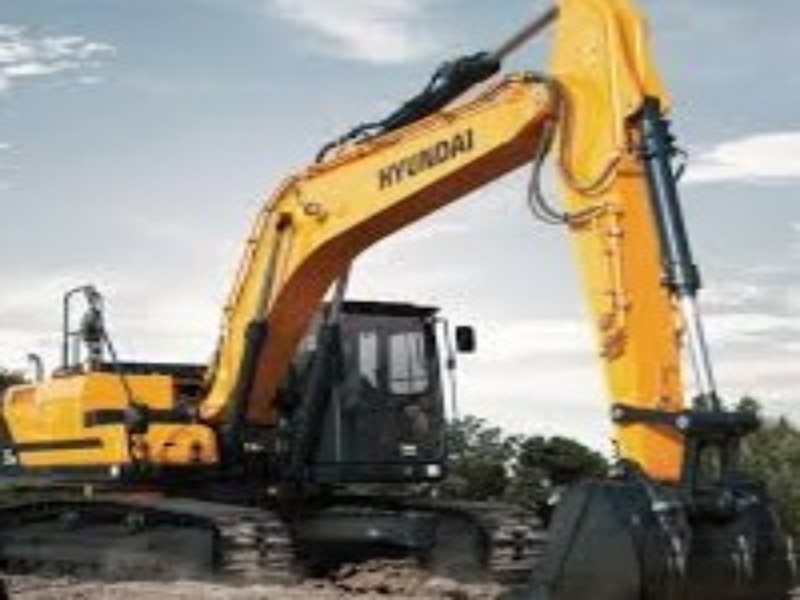wajueji: (5, 218, 525, 600)
